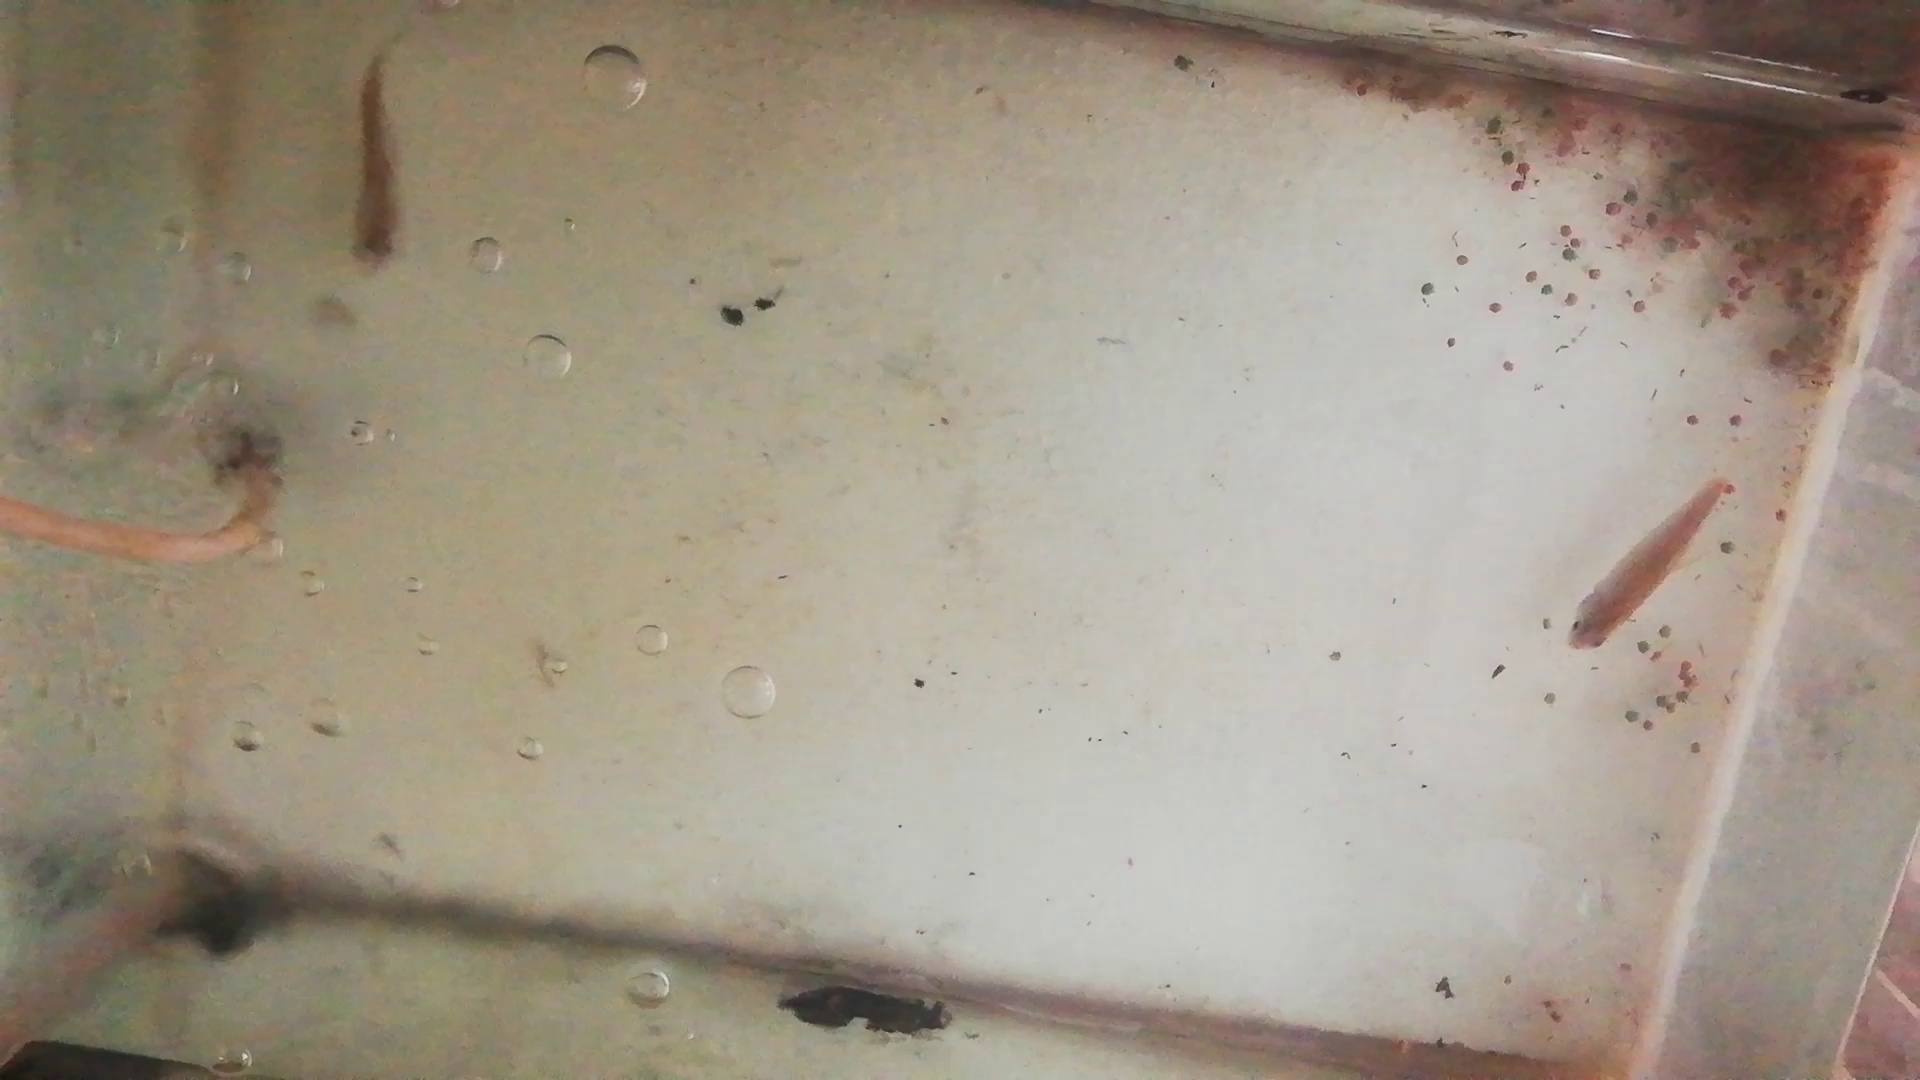fish: (1567, 487, 1717, 658), (349, 59, 404, 280)
